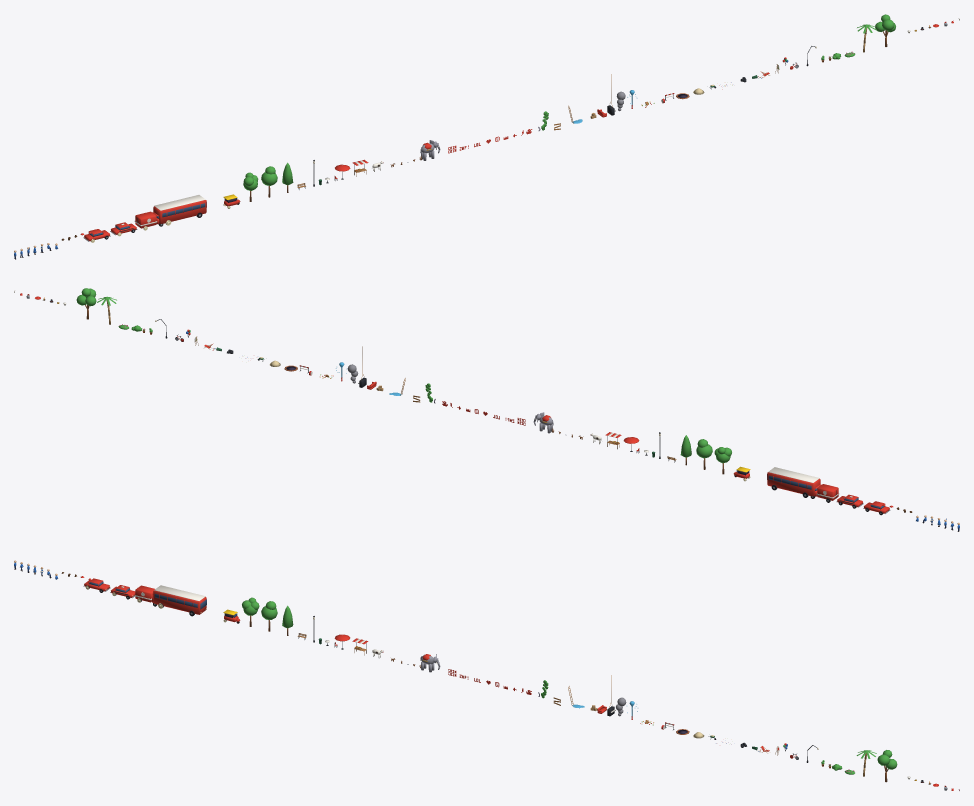
The model's file is kit.glb.
3 views of the same model, one above another, from view 1: azimuth 30°, elevation 25°; view 2: azimuth 150°, elevation 25°; view 3: azimuth 330°, elevation 25° (orthographic).
Parts seen in each view (by area): view 1: Bus; view 2: Bus; view 3: Bus.
Boxes of the visible parts, x1,y1,x2,y2 form: Bus: (153, 195, 206, 225); Bus: (767, 467, 820, 497); Bus: (153, 585, 206, 616).
Size of the model in its own units: 179 by 7.86 by 3.46.
